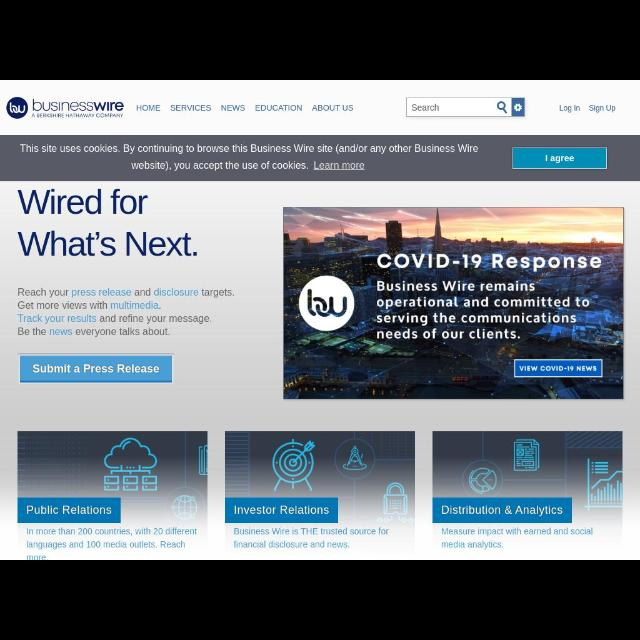button: (512, 98, 524, 114)
icon: (497, 101, 508, 113), (514, 103, 522, 111)
image: (283, 207, 623, 399), (225, 431, 415, 521), (432, 432, 622, 522), (18, 432, 206, 522), (7, 94, 124, 120)
input: (406, 98, 512, 116)
link: (18, 313, 98, 325), (312, 160, 366, 172), (70, 288, 134, 298), (110, 300, 160, 312), (154, 286, 198, 298), (48, 328, 72, 337)
multitab: (134, 99, 356, 119)
text: (18, 188, 198, 260), (17, 287, 235, 339), (23, 142, 481, 156), (26, 527, 198, 559), (442, 526, 596, 552), (130, 159, 368, 175), (232, 526, 390, 550), (254, 103, 304, 113), (170, 104, 212, 115), (312, 104, 354, 110), (586, 104, 616, 112), (135, 102, 161, 111), (412, 104, 438, 112), (222, 104, 246, 112), (558, 105, 580, 113)
textbutton: (20, 356, 172, 380), (511, 148, 607, 166)
